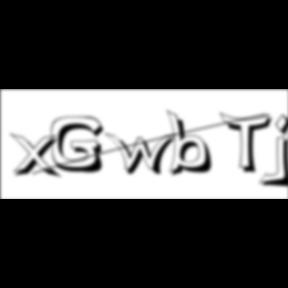G: (52, 116, 110, 176)
T: (220, 112, 278, 176)
b: (166, 109, 219, 179)
w: (104, 132, 182, 178)
x: (11, 132, 66, 181)
